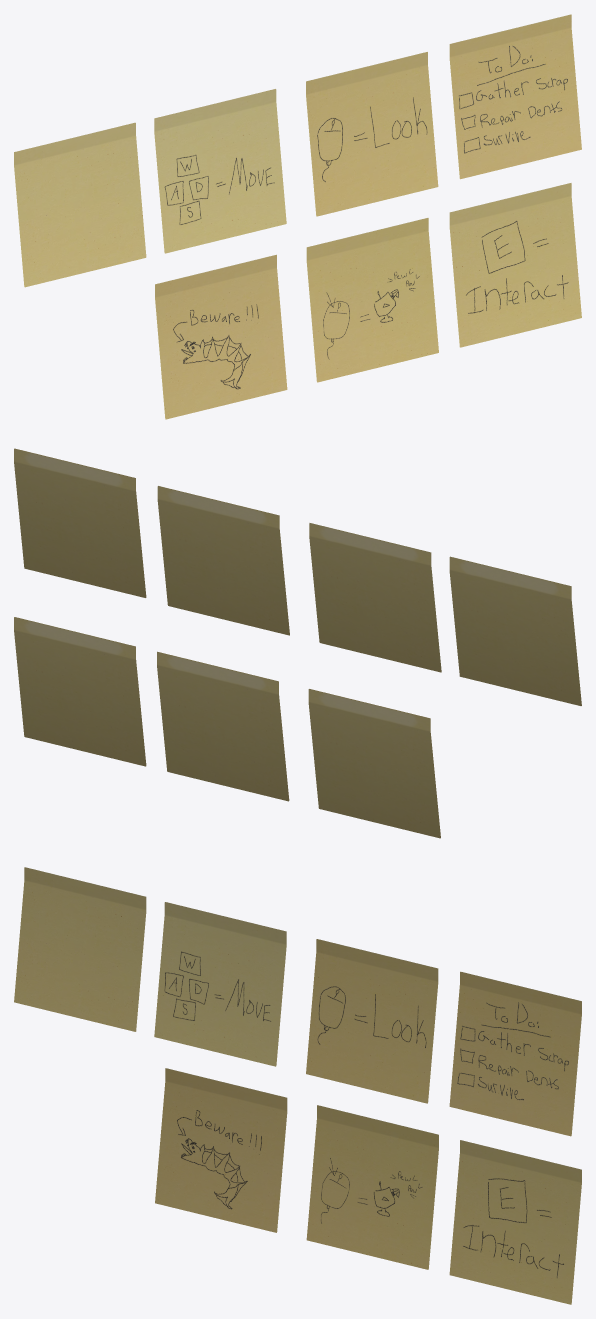
File: Stickynotes.fbx
3 renders of one model, top to bottom at view 1: azimuth 30°, elevation 25°; view 2: azimuth 150°, elevation 25°; view 3: azimuth 330°, elevation 25°, orthographic.
Visible parts, largest first — view 1: Plane.004, Plane.003, Plane.001, Plane.005, Plane, Plane.006, Plane.002; view 2: Plane.001, Plane.006, Plane.002, Plane, Plane.003, Plane.004, Plane.005; view 3: Plane.001, Plane.006, Plane.002, Plane, Plane.005, Plane.003, Plane.004.
Boxes of the visible parts, x1,y1,x2,y2 form: Plane.004: (449, 183, 581, 347); Plane.003: (449, 14, 581, 179); Plane.001: (154, 89, 286, 253); Plane.005: (306, 218, 438, 382); Plane: (155, 254, 287, 419); Plane.006: (14, 122, 146, 287); Plane.002: (306, 52, 438, 216); Plane.001: (309, 523, 441, 672); Plane.006: (449, 556, 581, 705); Plane.002: (157, 486, 289, 635); Plane: (308, 689, 440, 838); Plane.003: (14, 448, 146, 597); Plane.004: (14, 617, 146, 766); Plane.005: (157, 651, 289, 801); Plane.001: (154, 902, 286, 1066); Plane.006: (14, 867, 146, 1031); Plane.002: (306, 939, 438, 1103); Plane: (155, 1068, 287, 1232); Plane.005: (306, 1105, 438, 1269); Plane.003: (449, 971, 581, 1136); Plane.004: (449, 1140, 581, 1304).
Size of the model in its own units: 916 by 465 by 30.76.
